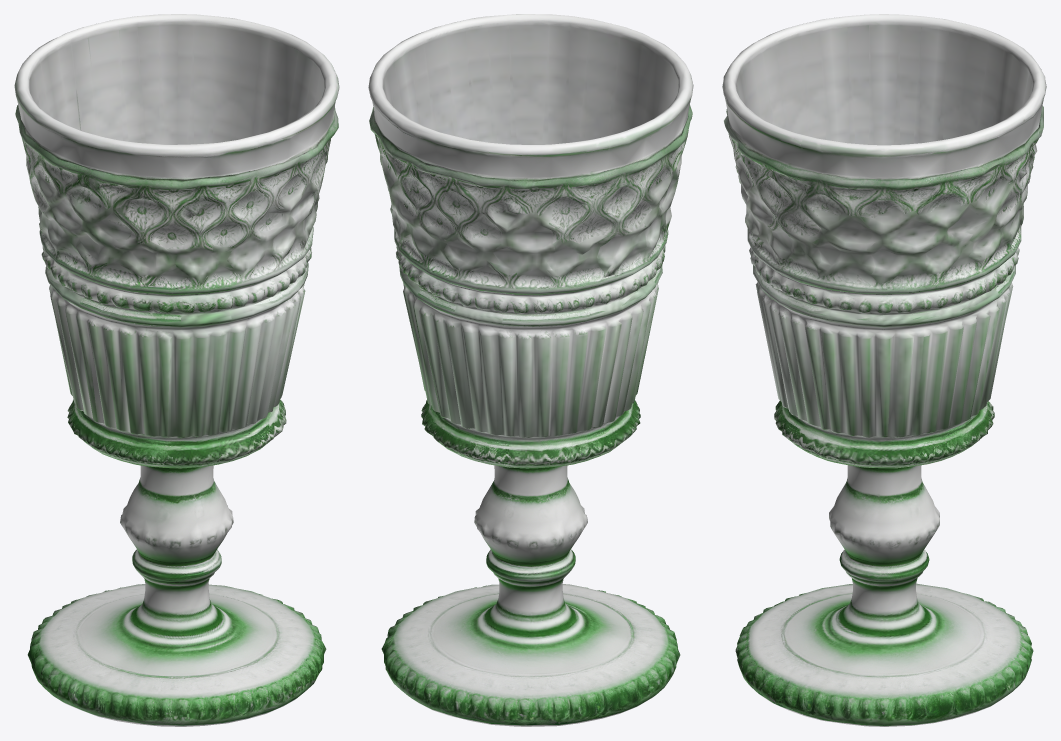
Rendered from Glass_Goblet_Claro_Green_9.8InchesTall_TableTop_0222192639_texture.glb.
3 views of the same model, side by side, from view 1: azimuth 30°, elevation 25°; view 2: azimuth 150°, elevation 25°; view 3: azimuth 270°, elevation 25° (orthographic).
Parts seen in each view (by area): view 1: Mesh_0; view 2: Mesh_0; view 3: Mesh_0.
Boxes of the visible parts, x1,y1,x2,y2 form: Mesh_0: (14, 14, 339, 726); Mesh_0: (368, 14, 693, 726); Mesh_0: (722, 14, 1046, 726).
Size of the model in its own units: 0.1247 by 0.25 by 0.1247.
1 material, 1 textured.
